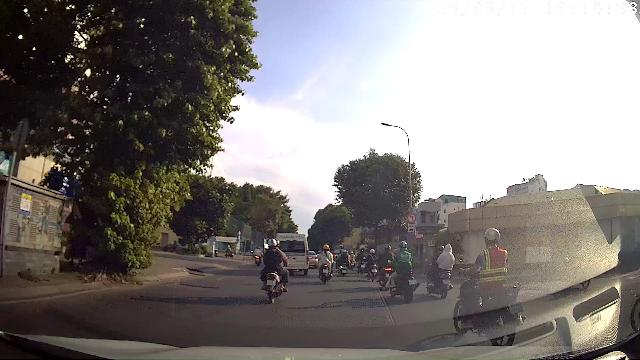123a-cam-re-trai: (407, 213, 416, 223)
